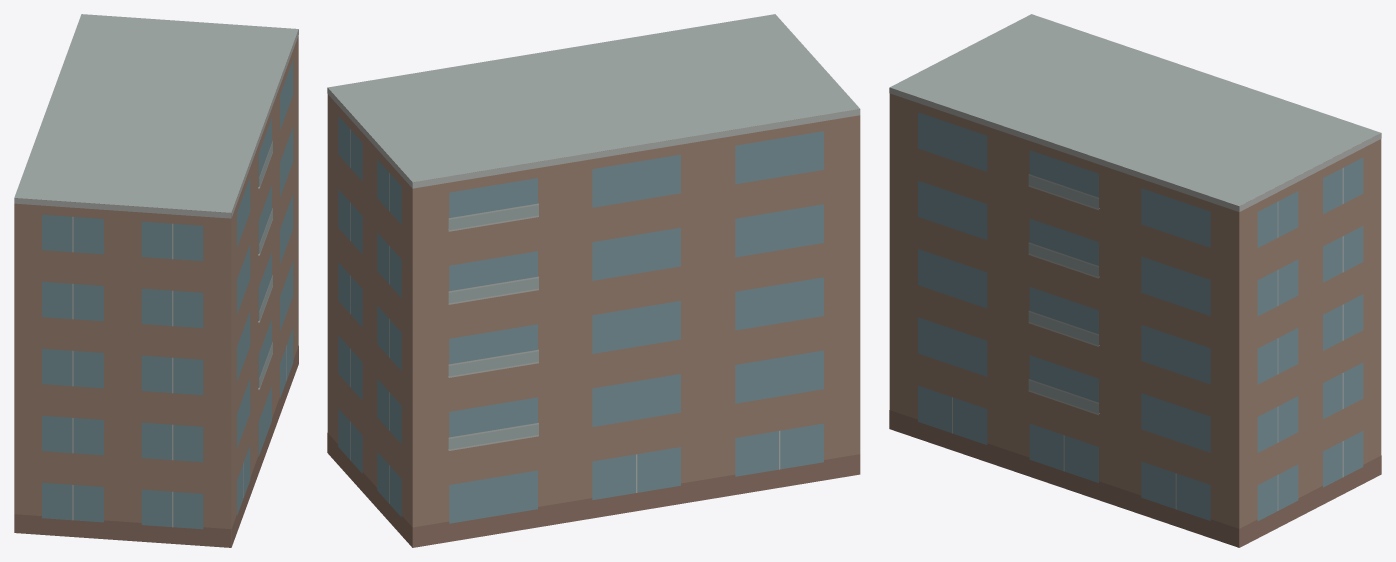
The model's file is survey-upis-32854915.glb.
3 renders of one model, left to right at view 1: azimuth 30°, elevation 25°; view 2: azimuth 150°, elevation 25°; view 3: azimuth 270°, elevation 25°, orthographic. The views are drawn at different scales.
Parts seen in each view (by area): view 1: survey-upis-32854915.tmp; view 2: survey-upis-32854915.tmp; view 3: survey-upis-32854915.tmp.
Boxes of the visible parts, box(x1,y1,x2,y2) form: survey-upis-32854915.tmp: box(14, 14, 298, 547); survey-upis-32854915.tmp: box(327, 14, 860, 547); survey-upis-32854915.tmp: box(889, 14, 1381, 547).
Bounding box in the file's own units: 17.15 × 14.2 × 18.54.
